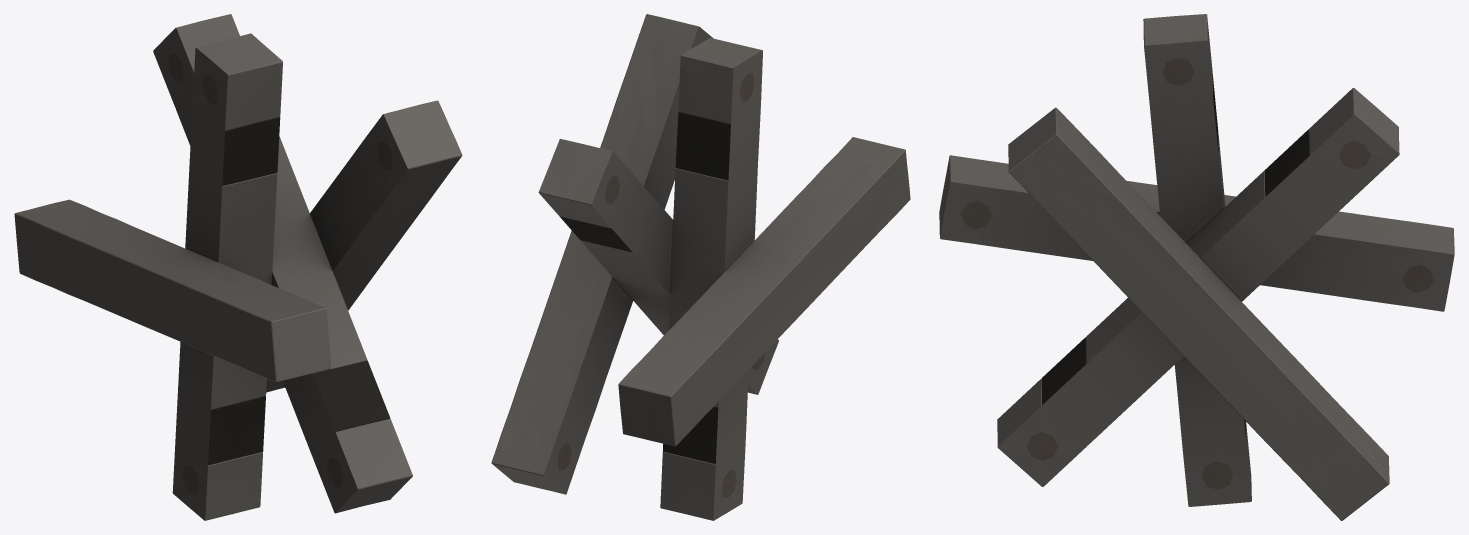
Rendered from tars.glb.
3 renders of one model, left to right at view 1: azimuth 30°, elevation 25°; view 2: azimuth 150°, elevation 25°; view 3: azimuth 270°, elevation 25°, orthographic. The views are drawn at different scales.
Parts seen in each view (by area): view 1: Object_3; view 2: Object_3; view 3: Object_3.
Part boxes in pixels (box(x1,y1,x2,y2)): Object_3: box(14, 14, 462, 520); Object_3: box(491, 14, 910, 520); Object_3: box(939, 14, 1454, 520).
Bounding box in the file's own units: 4.07 × 8.06 × 8.06.
1 material, 1 textured.
